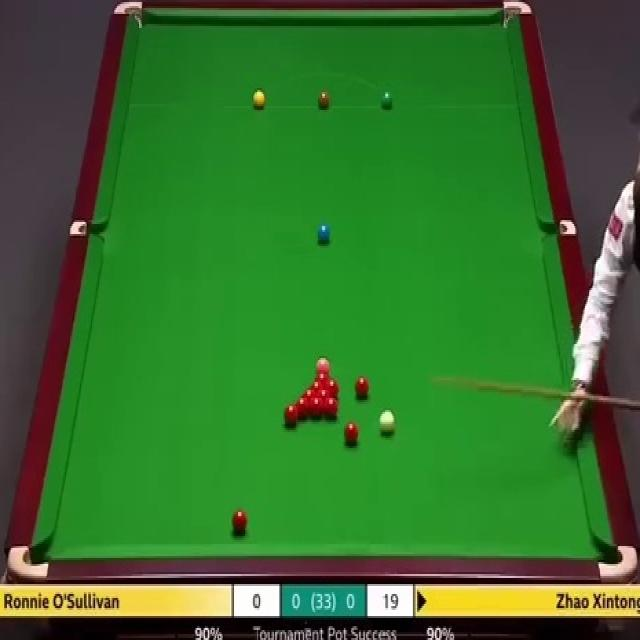pocket: (595, 542, 638, 580), (10, 542, 48, 584), (112, 2, 143, 29), (502, 0, 530, 29), (72, 217, 103, 237), (541, 220, 576, 237)
